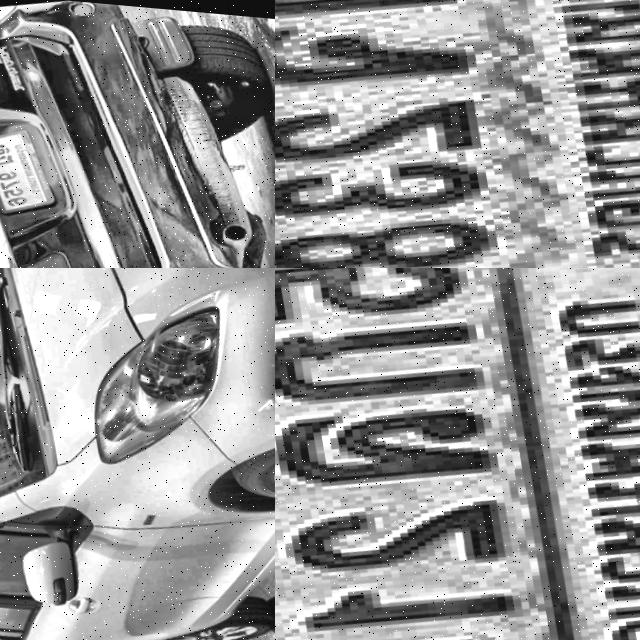license-plate: (275, 268, 640, 640), (275, 0, 640, 268), (0, 123, 53, 208)
